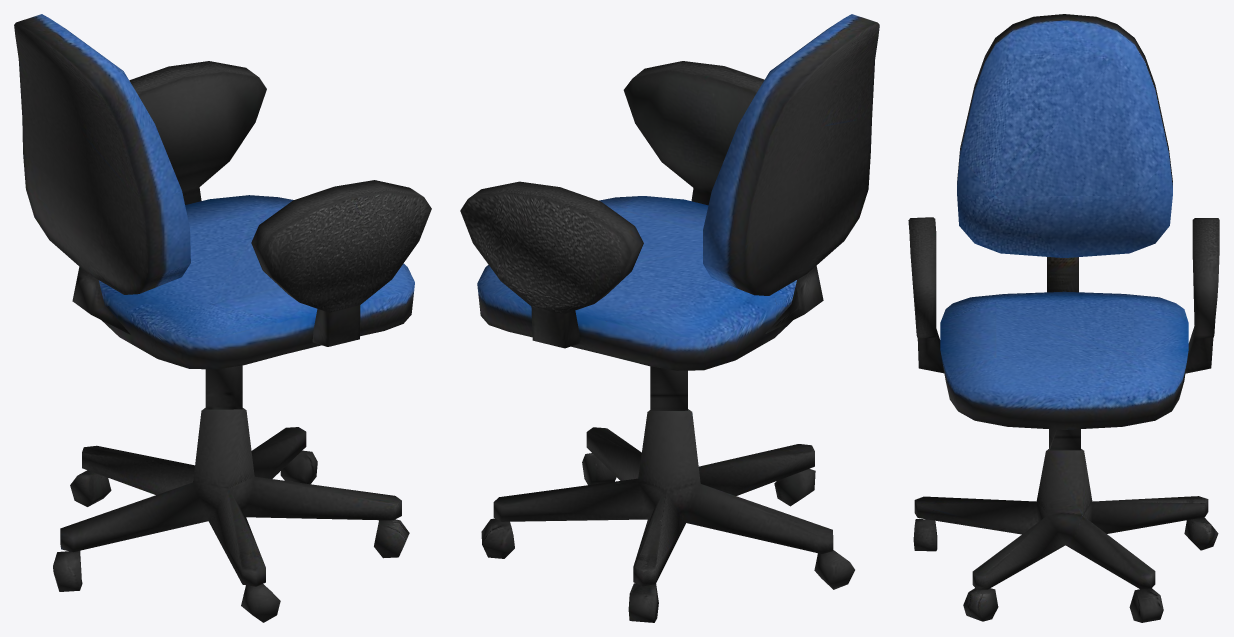
Rendered from tripo_convert_e32ddd90-d5db-482f-a932-e832a30121fe.fbx.
3 views of the same model, side by side, from view 1: azimuth 30°, elevation 25°; view 2: azimuth 150°, elevation 25°; view 3: azimuth 270°, elevation 25° (orthographic). The views are drawn at different scales.
Visible parts, largest first — view 1: tripo_node_e32ddd90; view 2: tripo_node_e32ddd90; view 3: tripo_node_e32ddd90.
Part boxes in pixels (x1=…): tripo_node_e32ddd90: x1=14, y1=14, x2=431, y2=622; tripo_node_e32ddd90: x1=460, y1=14, x2=879, y2=622; tripo_node_e32ddd90: x1=908, y1=14, x2=1219, y2=622.
Bounding box in the file's own units: 0.6348 × 0.998 × 0.5879.
Materials: 1 (1 with a texture image).
